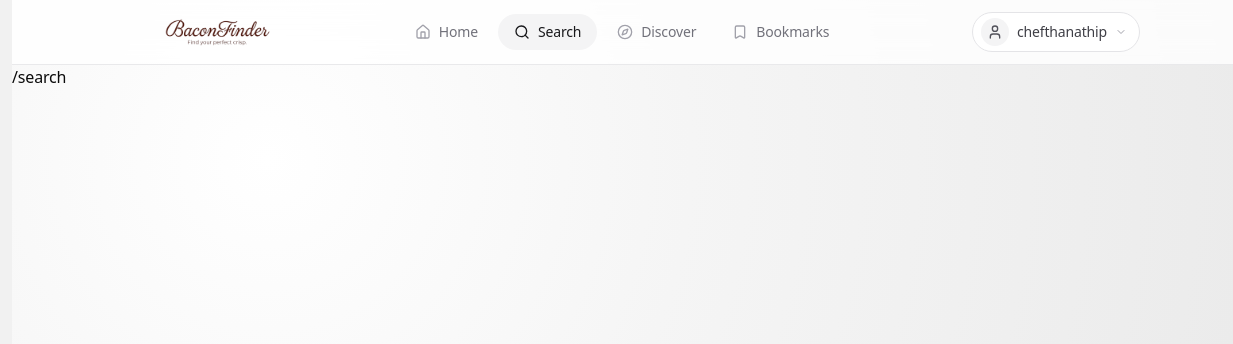
Test case: NavBar › shows the username menu for authenticated users and logs out to /login
Click the button "chefthanathip" at (1056, 32), box [972,12,1140,52]
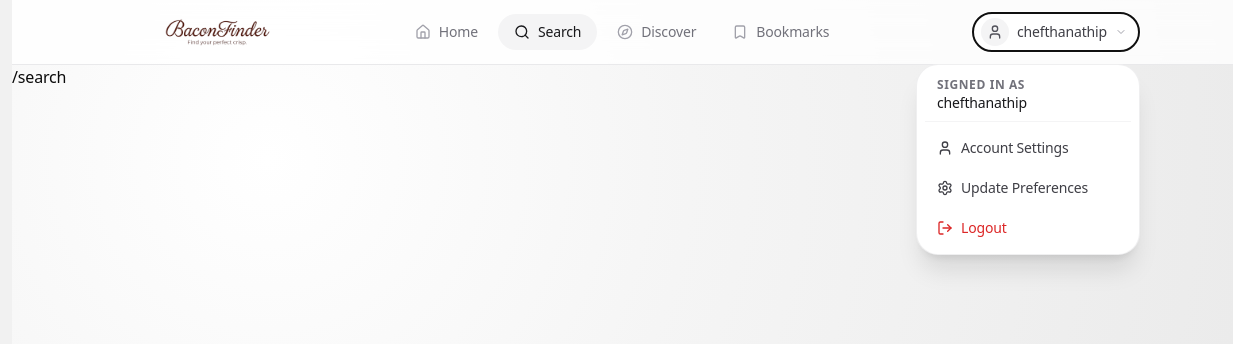
Result: the link "Account Settings" is shown at [937,138,1069,157]
Result: the link "Update Preferences" is shown at [937,178,1088,197]
Click the button "Logout" at (1028, 228), box [925,210,1131,246]
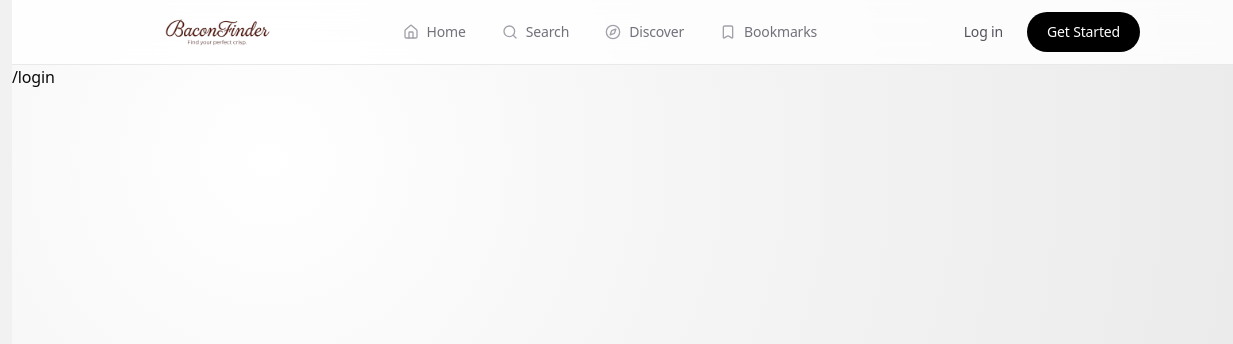
Result: the text with test id "location-display" reads "/login" at [12,66,55,88]
